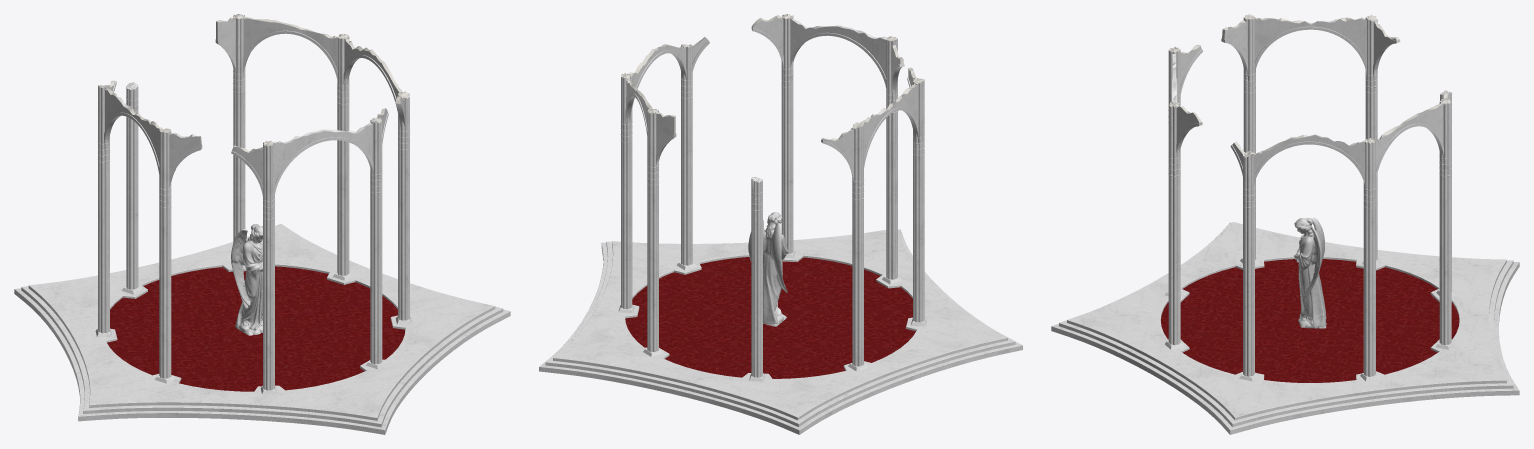
Rendered from bloodtemplefbx.glb.
3 renders of one model, left to right at view 1: azimuth 30°, elevation 25°; view 2: azimuth 150°, elevation 25°; view 3: azimuth 270°, elevation 25°, orthographic. The views are drawn at different scales.
Parts seen in each view (by area): view 1: Base, Red, Column.001, Column.007, Column, Angel, Column.005, Column.002, Column.006, Column.003, Column.004, BrokenPart.003 (+5 smaller); view 2: Base, Red, Column.002, Column.004, Column.007, Column.001, Column.005, Column, Column.006, Column.003, Angel, BrokenPart.003 (+7 smaller); view 3: Base, Red, Column.005, Column.004, Column.007, Angel, Column.006, BrokenPart.001, BrokenPart.005, Column.001, Column.002, BrokenPart.006 (+4 smaller).
Part boxes in pixels (x1=…): Base: x1=14, y1=223, x2=510, y2=434; Red: x1=107, y1=266, x2=405, y2=391; Column.001: x1=159, y1=128, x2=171, y2=378; Column.007: x1=370, y1=117, x2=382, y2=364; Column: x1=263, y1=140, x2=274, y2=390; Angel: x1=231, y1=224, x2=262, y2=335; Column.005: x1=337, y1=33, x2=349, y2=275; Column.002: x1=98, y1=85, x2=109, y2=333; Column.006: x1=398, y1=91, x2=410, y2=320; Column.003: x1=126, y1=81, x2=138, y2=289; Column.004: x1=233, y1=14, x2=245, y2=242; BrokenPart.003: x1=274, y1=120, x2=376, y2=193; Base: x1=539, y1=229, x2=1022, y2=434; Red: x1=625, y1=257, x2=915, y2=378; Column.002: x1=852, y1=122, x2=864, y2=366; Column.004: x1=647, y1=108, x2=659, y2=352; Column.007: x1=781, y1=14, x2=793, y2=254; Column.001: x1=913, y1=78, x2=924, y2=322; Column.005: x1=620, y1=72, x2=632, y2=308; Column: x1=886, y1=36, x2=897, y2=279; Column.006: x1=681, y1=44, x2=692, y2=265; Column.003: x1=751, y1=177, x2=762, y2=377; Angel: x1=748, y1=212, x2=788, y2=326; BrokenPart.003: x1=788, y1=15, x2=886, y2=87; Base: x1=1051, y1=222, x2=1519, y2=434; Red: x1=1161, y1=259, x2=1459, y2=382; Column.005: x1=1363, y1=138, x2=1375, y2=376; Column.004: x1=1439, y1=99, x2=1451, y2=345; Column.007: x1=1168, y1=102, x2=1180, y2=345; Angel: x1=1294, y1=217, x2=1326, y2=328; Column.006: x1=1243, y1=151, x2=1255, y2=376; BrokenPart.001: x1=1254, y1=17, x2=1366, y2=78; BrokenPart.005: x1=1254, y1=134, x2=1365, y2=186; Column.001: x1=1243, y1=14, x2=1255, y2=259; Column.002: x1=1365, y1=14, x2=1377, y2=260; BrokenPart.006: x1=1373, y1=103, x2=1443, y2=179.
Size of the model in its own units: 18.44 by 10.63 by 17.54.
4 materials, 4 textured.
